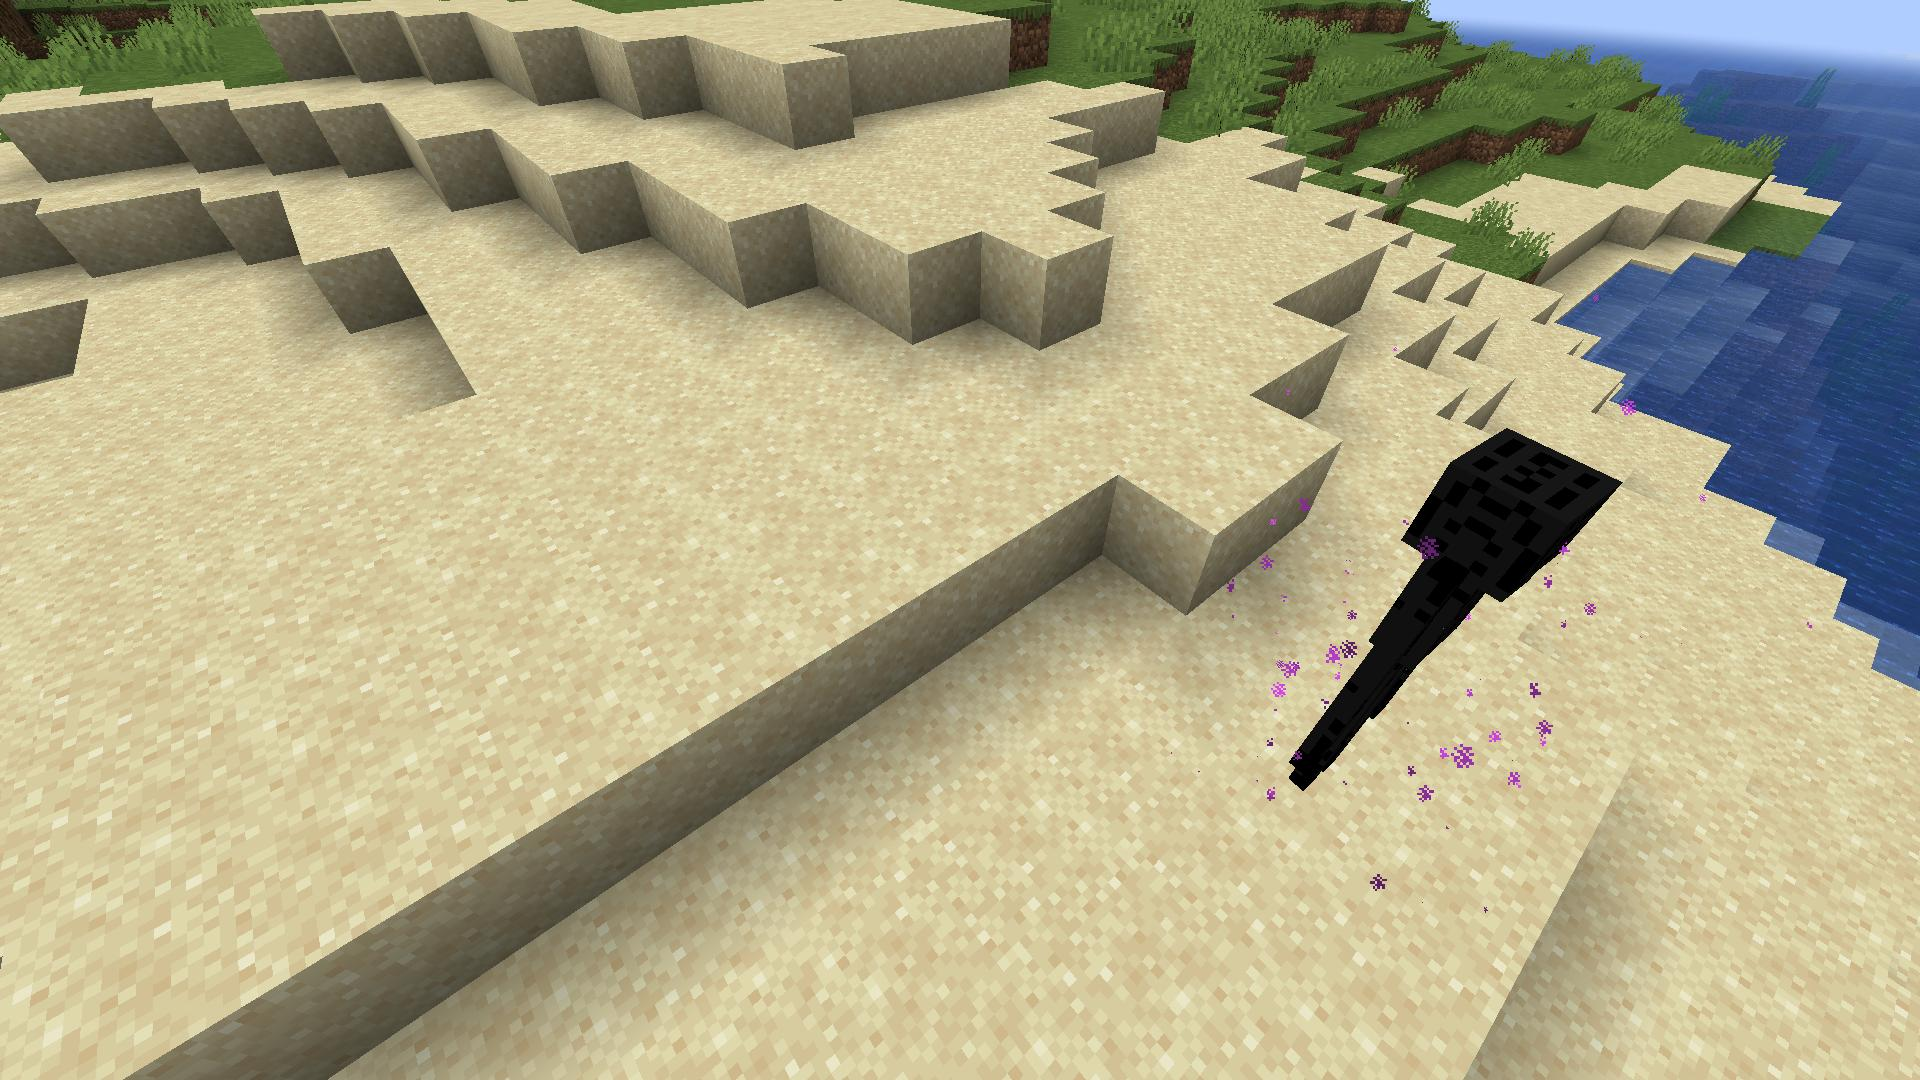enderman: (1280, 421, 1631, 794)
